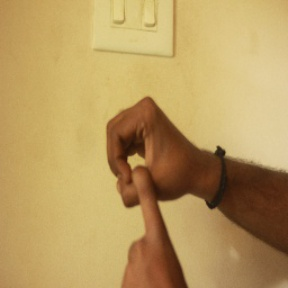Q: (98, 94, 205, 288)
